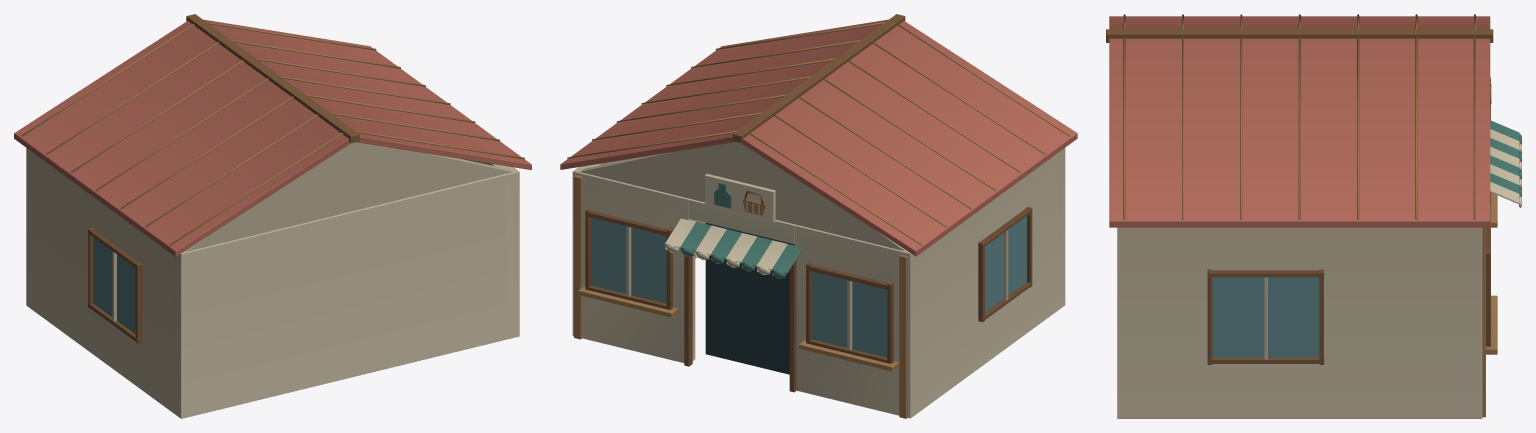
File: store_exterior_low.glb
3 views of the same model, side by side, from view 1: azimuth 30°, elevation 25°; view 2: azimuth 150°, elevation 25°; view 3: azimuth 270°, elevation 25° (orthographic). The views are drawn at different scales.
Size of the model in its own units: 7 by 4.62 by 6.
